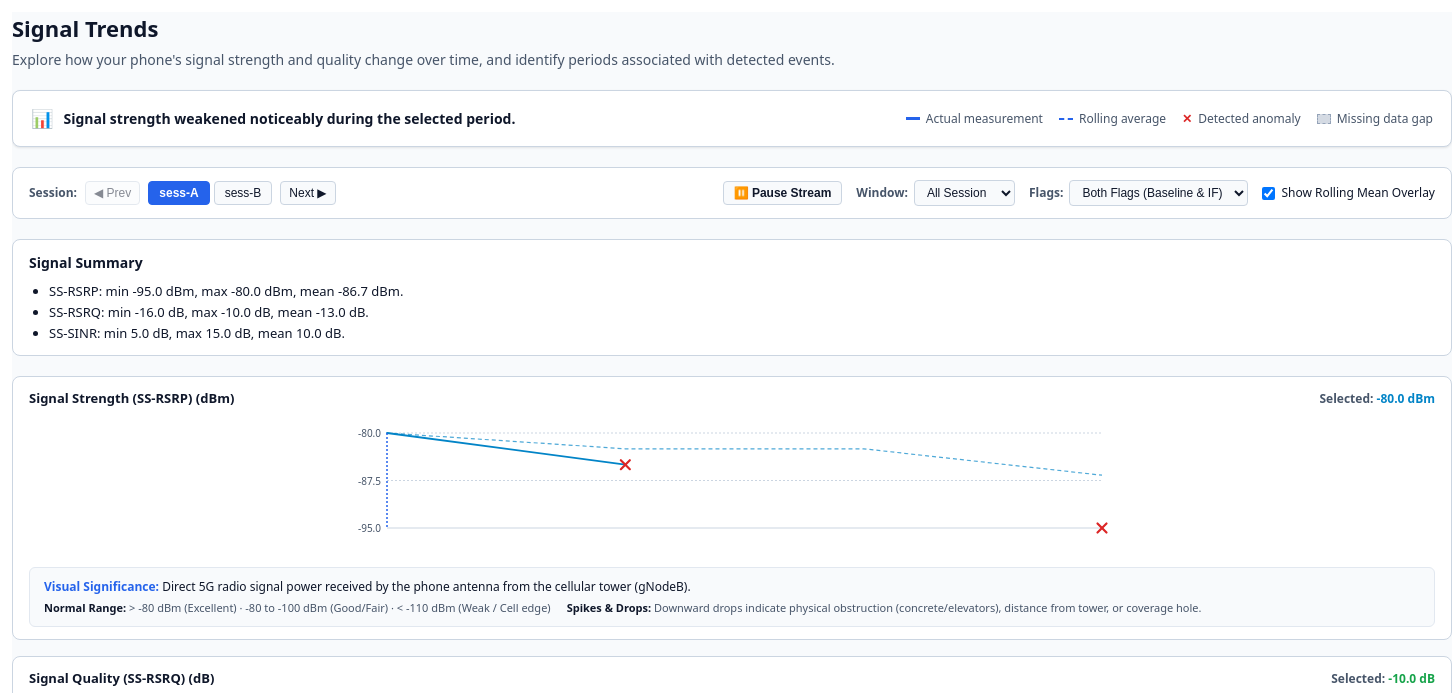
it: Signal Explorer Component (T16-011) › Live Signals Extensions (T17-004) › pause button freezes the view without losing data and resume unfreezes
// Click pause
Click the button with test id "pause-resume-button".
click(782, 193)  # box [723,181,842,205]
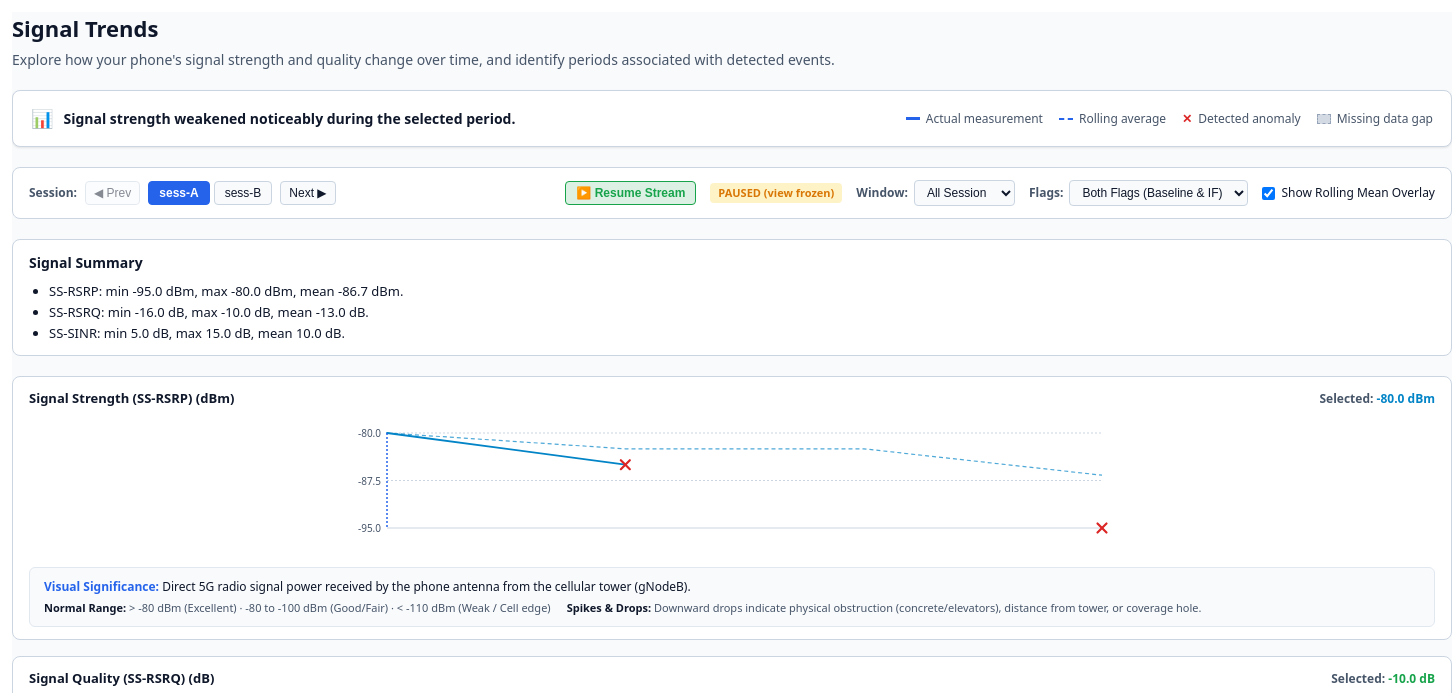
Now the text "PAUSED (view frozen)" is shown, box [710,183,842,203]
Now the button with test id "pause-resume-button" reads "▶️ Resume Stream"
// Click resume
Click the button with test id "pause-resume-button".
click(631, 193)  # box [565,181,696,205]
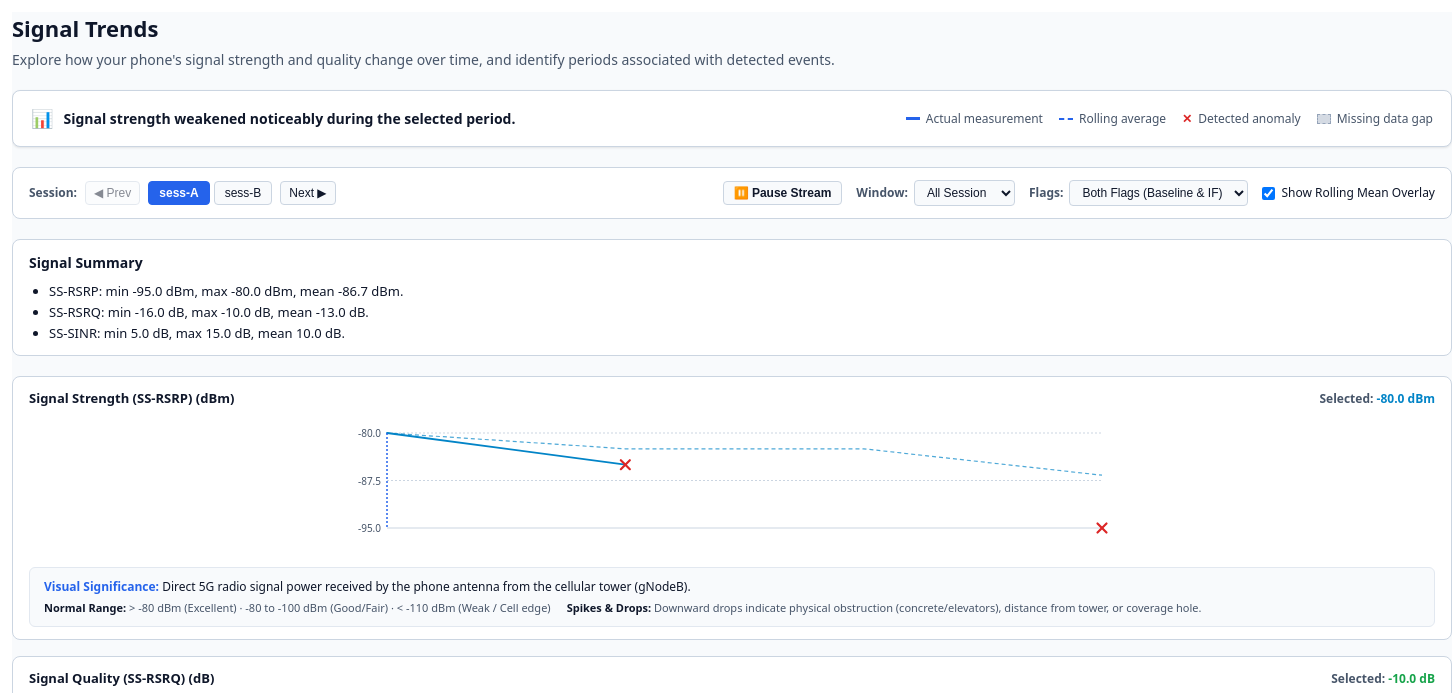
Now the text with test id "pause-badge" is gone
Now the button with test id "pause-resume-button" reads "⏸️ Pause Stream", box [723,181,842,205]
